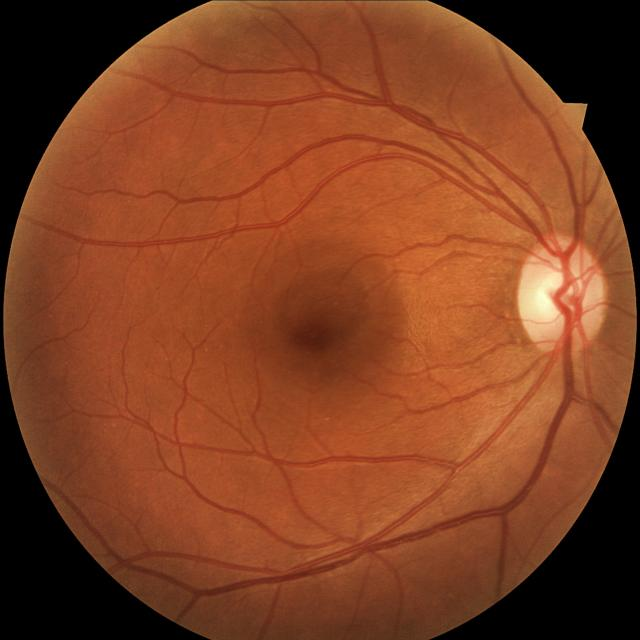OC: (535, 271, 575, 323)
OD: (517, 237, 607, 352)
